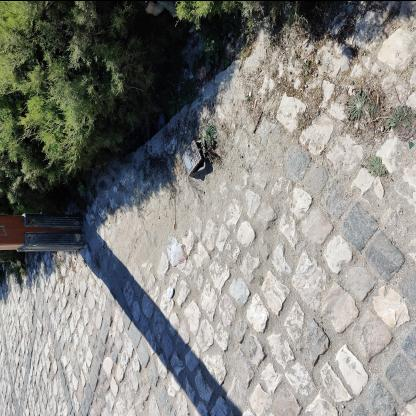Glass: (408, 140, 415, 149)
Paper: (173, 219, 176, 228), (254, 99, 257, 107)
Plastic: (166, 233, 186, 266)
Waste: (131, 340, 142, 364), (167, 285, 174, 297)
